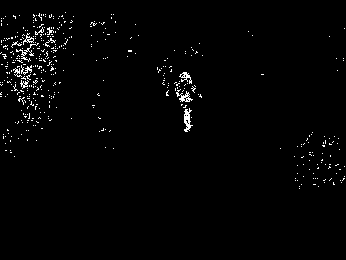person: (174, 68, 200, 135)
